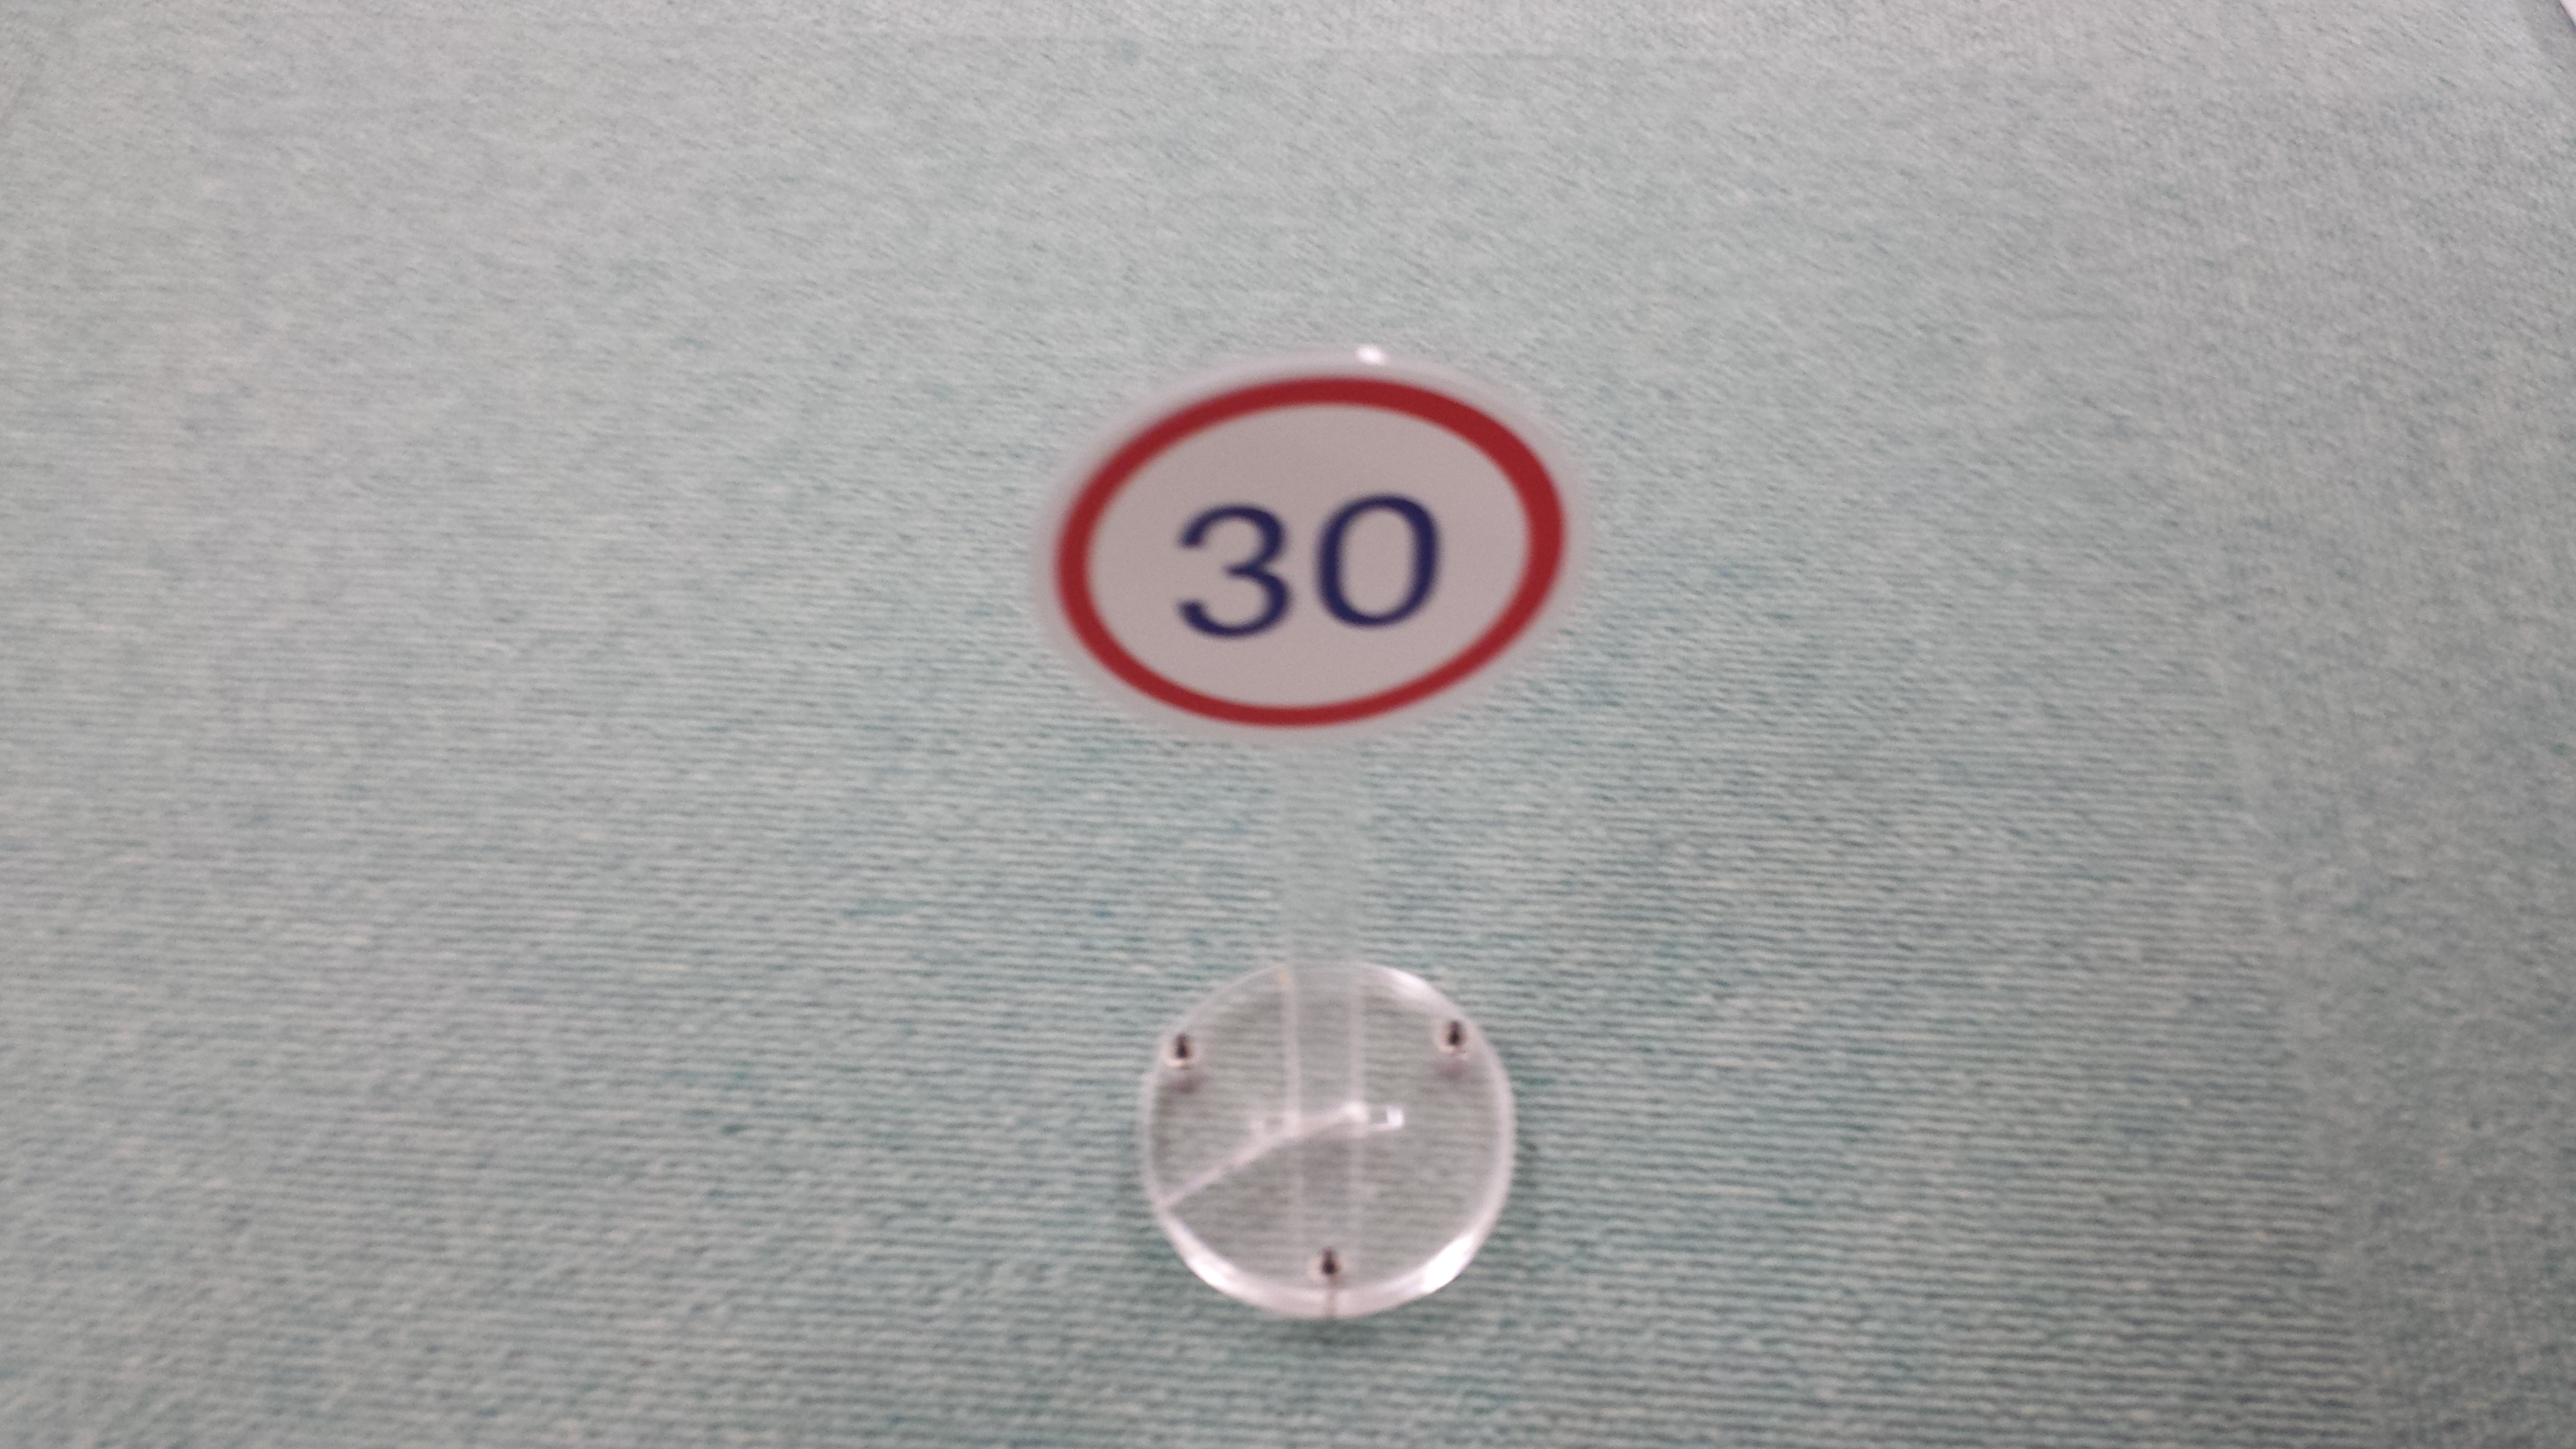speed_30: (1037, 361, 1585, 748)
